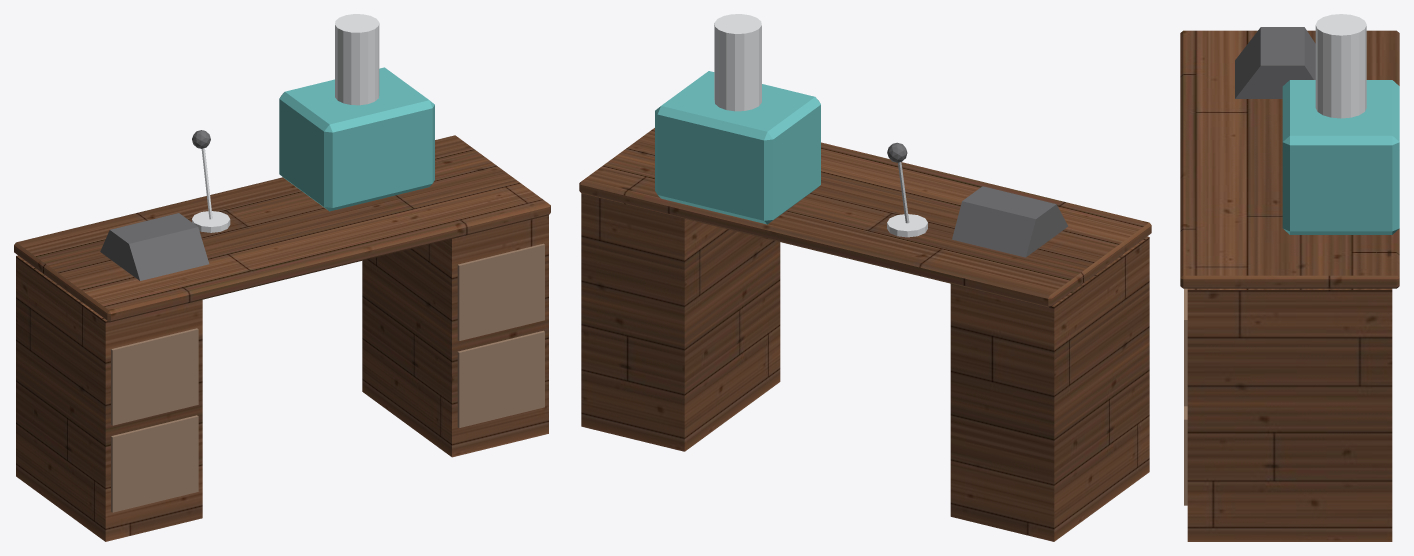
Rendered from booth_desk.glb.
3 views of the same model, side by side, from view 1: azimuth 30°, elevation 25°; view 2: azimuth 150°, elevation 25°; view 3: azimuth 270°, elevation 25° (orthographic). The views are drawn at different scales.
Visible parts, largest first — view 1: booth_desk_walnut, booth_desk_dkwood, booth_desk_teal, booth_desk_dark, booth_desk_chrome; view 2: booth_desk_walnut, booth_desk_teal, booth_desk_dark, booth_desk_chrome; view 3: booth_desk_walnut, booth_desk_teal, booth_desk_chrome, booth_desk_dark, booth_desk_dkwood.
Part boxes in pixels (bbox=[...]): booth_desk_walnut: bbox=[14, 135, 550, 541]; booth_desk_dkwood: bbox=[111, 243, 544, 512]; booth_desk_teal: bbox=[279, 67, 434, 211]; booth_desk_dark: bbox=[100, 130, 210, 280]; booth_desk_chrome: bbox=[192, 14, 379, 232]; booth_desk_walnut: bbox=[579, 128, 1151, 541]; booth_desk_teal: bbox=[655, 71, 820, 224]; booth_desk_dark: bbox=[887, 142, 1068, 257]; booth_desk_chrome: bbox=[714, 14, 927, 237]; booth_desk_walnut: bbox=[1180, 30, 1399, 541]; booth_desk_teal: bbox=[1282, 80, 1399, 234]; booth_desk_chrome: bbox=[1315, 14, 1366, 118]; booth_desk_dark: bbox=[1235, 27, 1315, 98]; booth_desk_dkwood: bbox=[1184, 288, 1187, 505].
Size of the model in its own units: 1.6 by 1.35 by 0.6.
5 materials, 1 textured.
